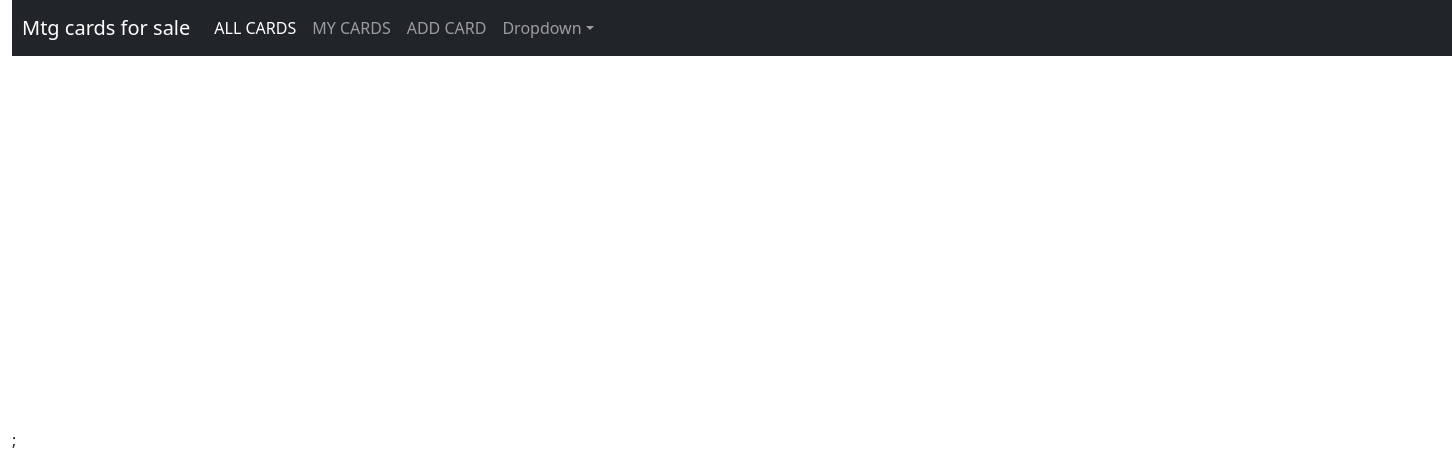
Test: The Navigation Links, Authorized › Should show MY CARDS and LOGOUT instead of AUTHENTICATE when authorized
The width and height of the screenshot is (1452, 465).
Expected: the link "ALL CARDS" is shown, [214,17,296,39]
Expected: the link "MY CARDS" is shown, [312,17,391,39]
Click the button "Dropdown": (548, 28) [494,8,602,48]
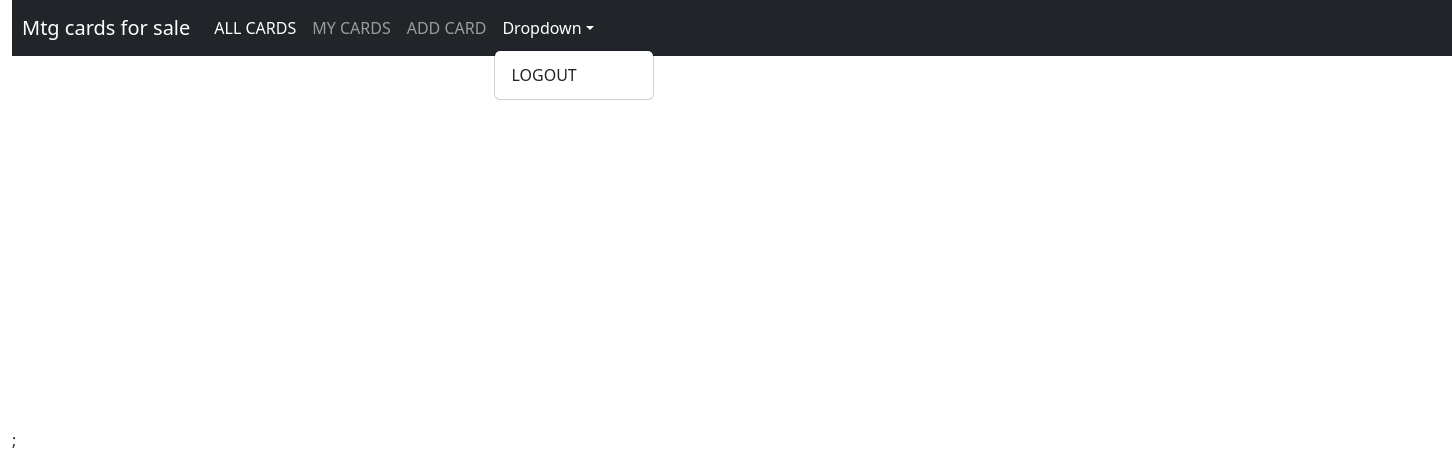
Now the button "LOGOUT" is shown, box [511,64,577,86]
